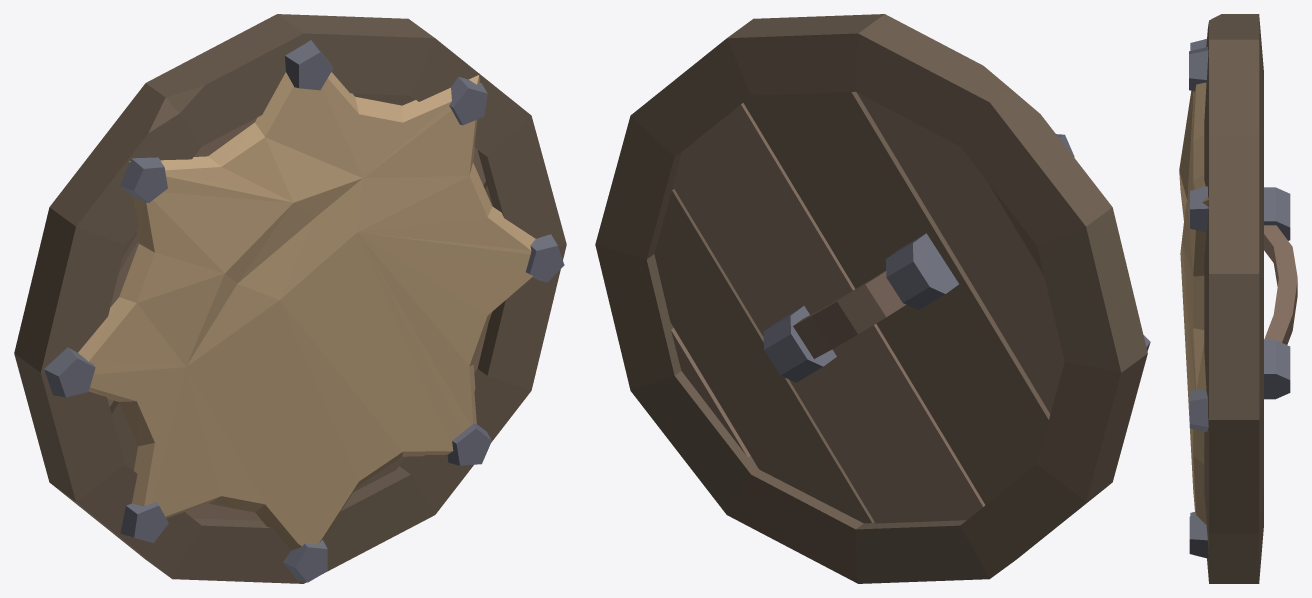
The model's file is shield_shield_1.glb.
The picture shows the model from 3 angles, left to right: view 1: azimuth 30°, elevation 25°; view 2: azimuth 150°, elevation 25°; view 3: azimuth 270°, elevation 25°; orthographic projection. The views are drawn at different scales.
Parts seen in each view (by area): view 1: shield_1; view 2: shield_1; view 3: shield_1.
Boxes of the visible parts, bbox=[...] form: shield_1: bbox=[14, 14, 566, 583]; shield_1: bbox=[595, 14, 1150, 583]; shield_1: bbox=[1179, 14, 1297, 583].
Size of the model in its own units: 64 by 64 by 13.27.
Materials: 1 (1 with a texture image).
